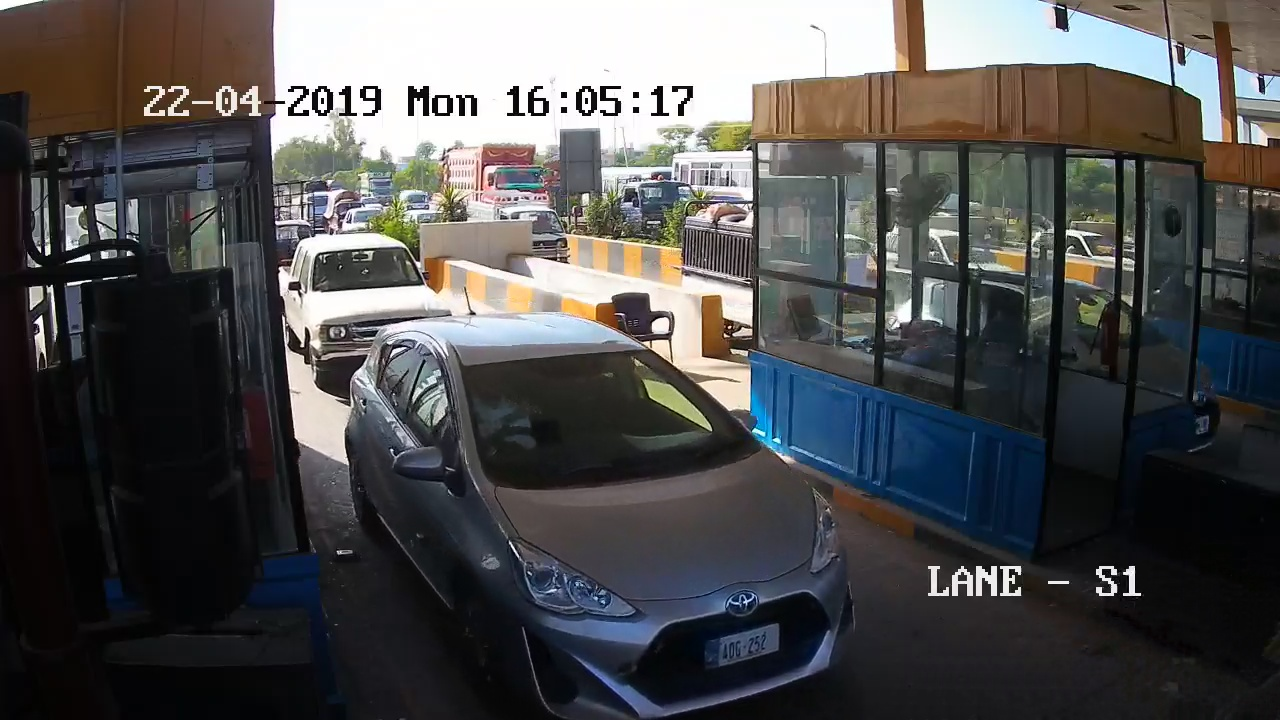Number Plate (Car): (699, 629, 783, 660)
